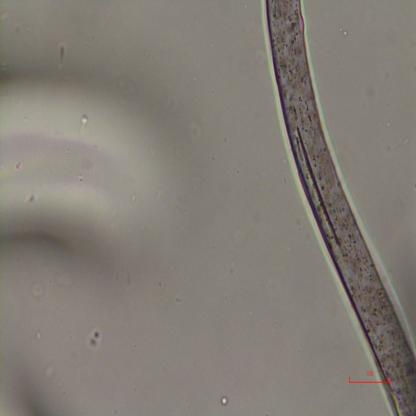Background material: (0, 89, 166, 276), (0, 346, 64, 414), (86, 325, 103, 354), (58, 39, 69, 68), (334, 23, 352, 38), (383, 117, 393, 132), (217, 395, 230, 406), (36, 328, 47, 340)
Microfibre: (262, 0, 416, 414)
